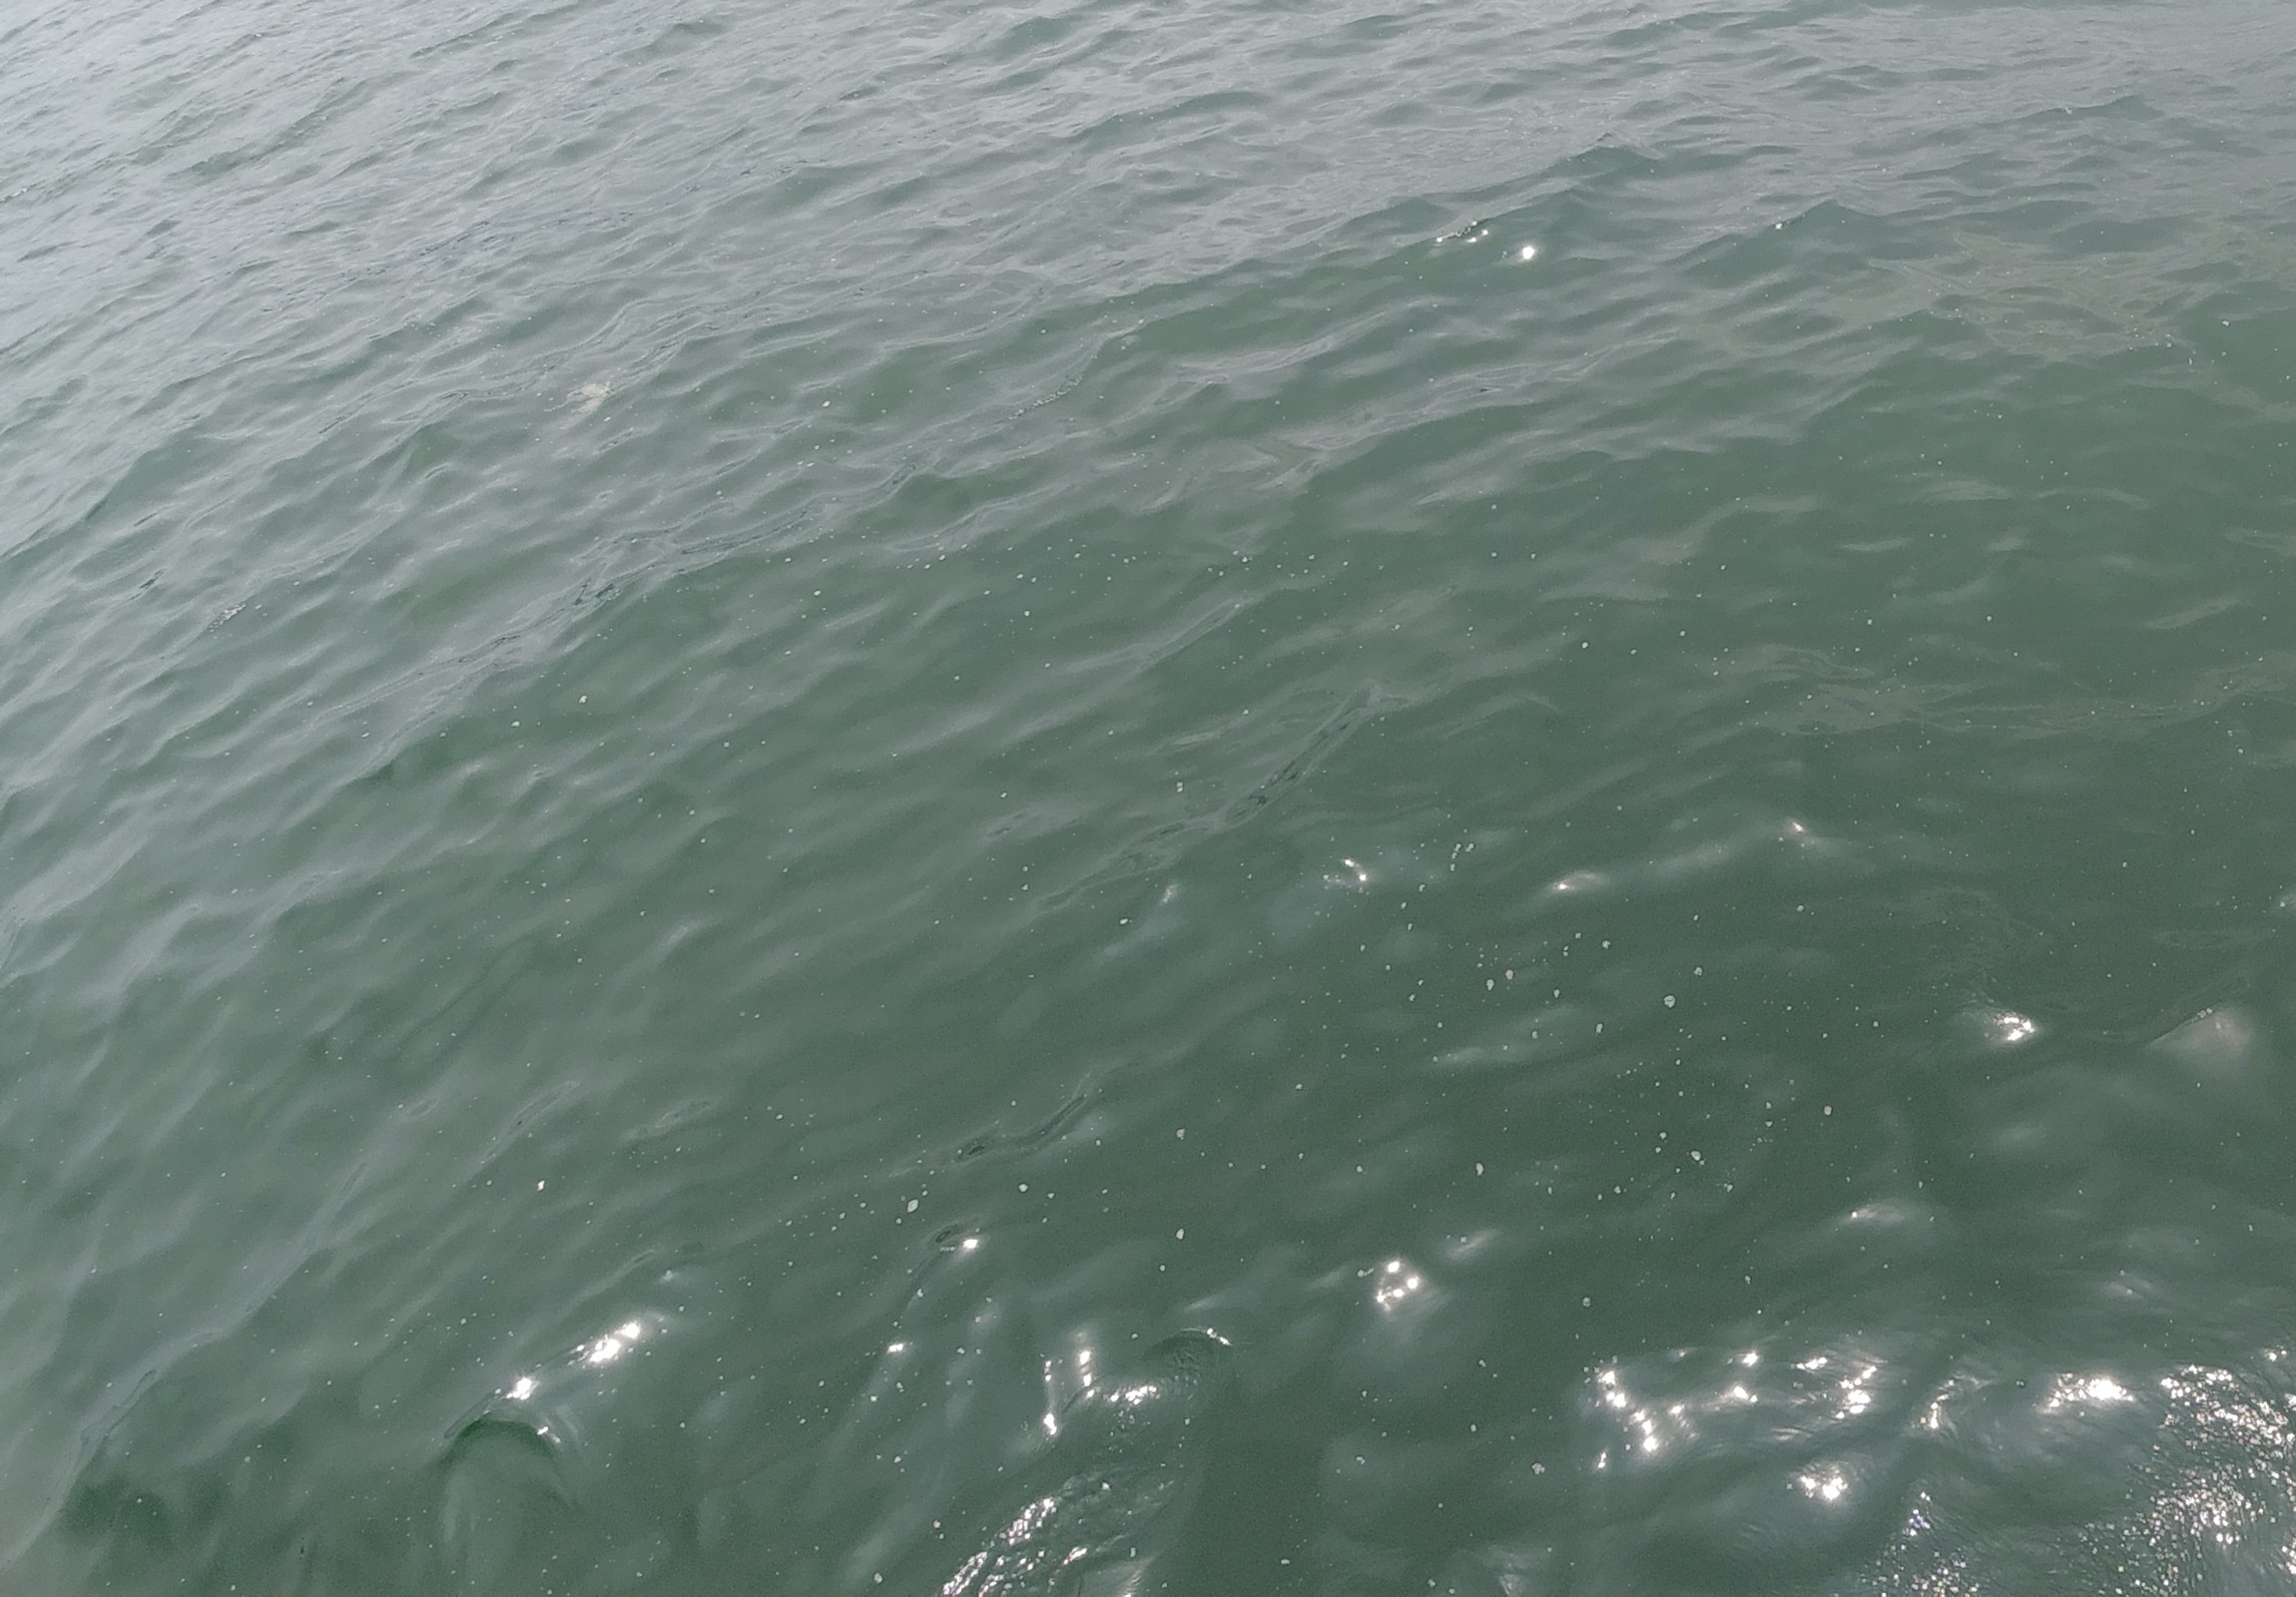plastic: (536, 374, 621, 436)
